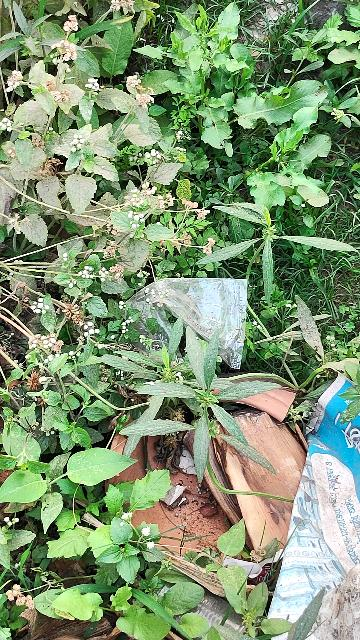polythene: (105, 276, 274, 368)
